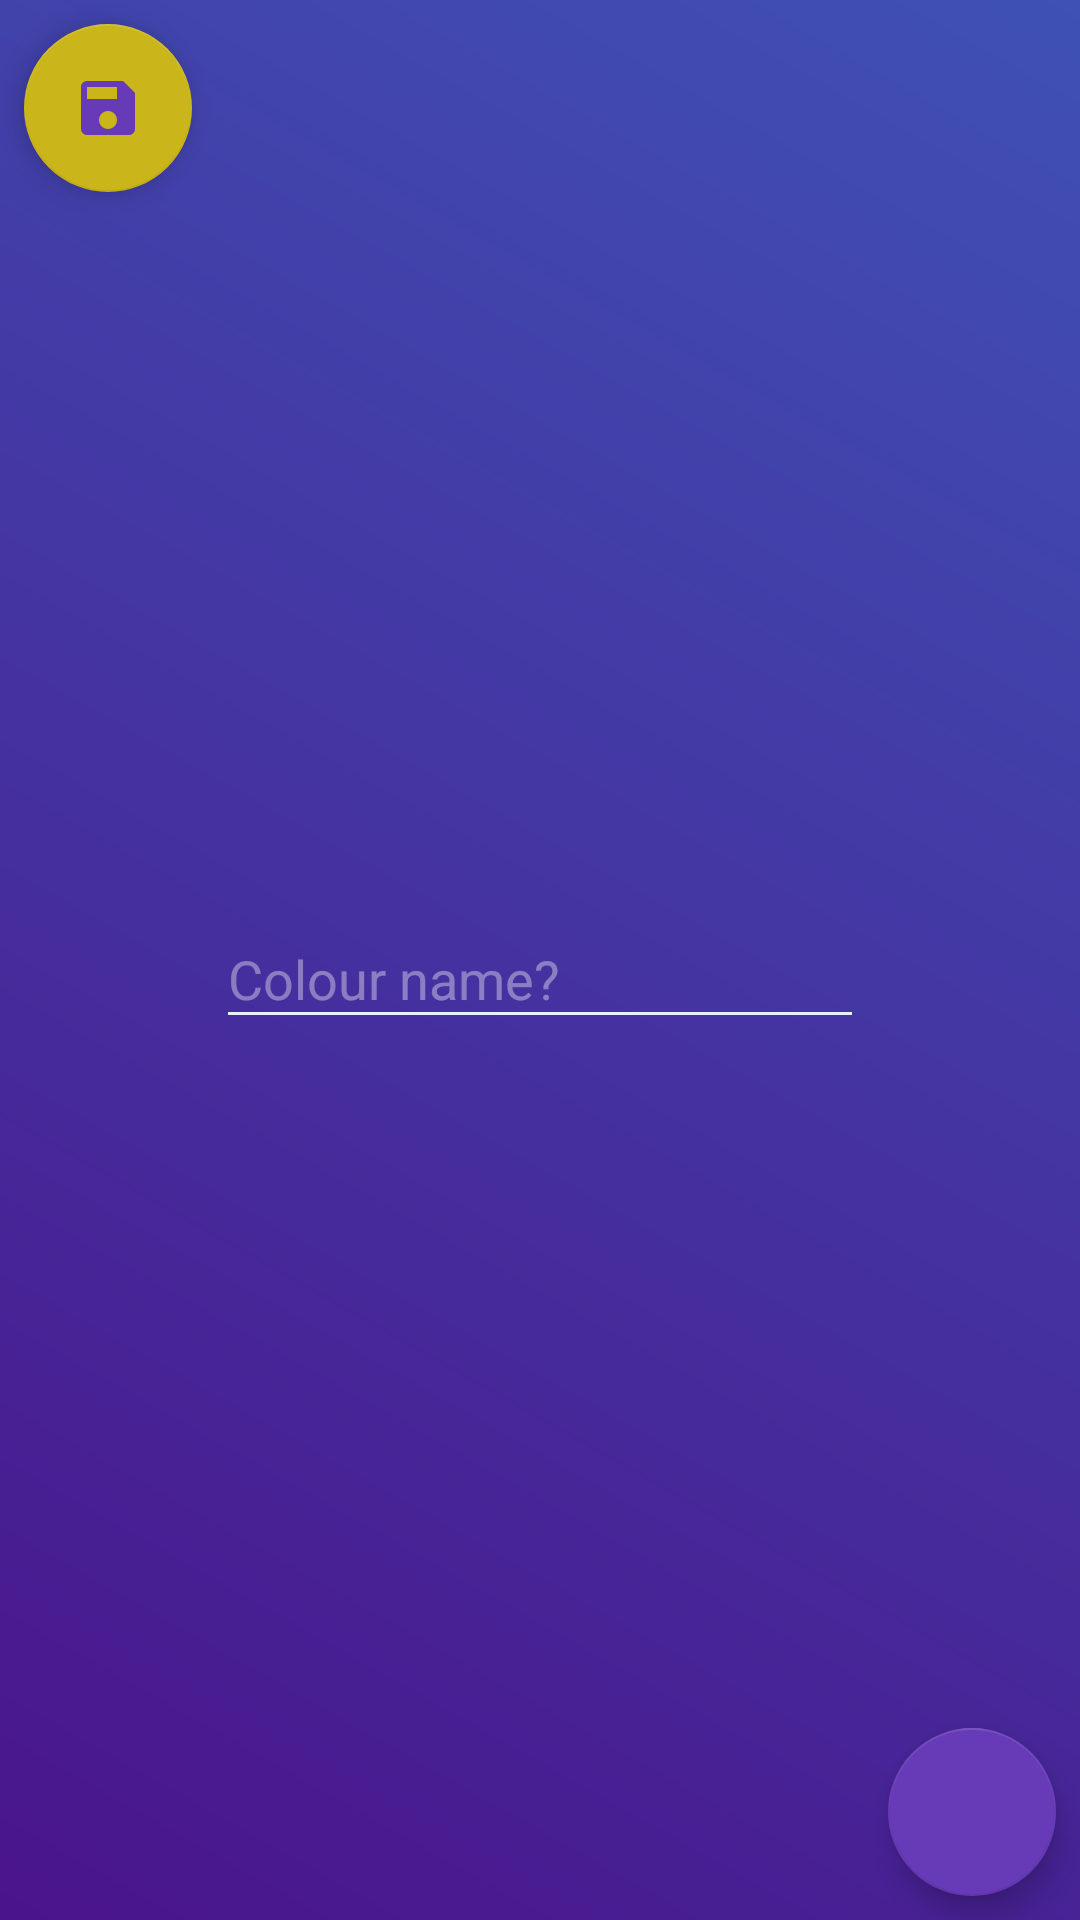

Named icons in this screenshot (1080 x 1920) and their centers, (x,y):
save: (108,108)
